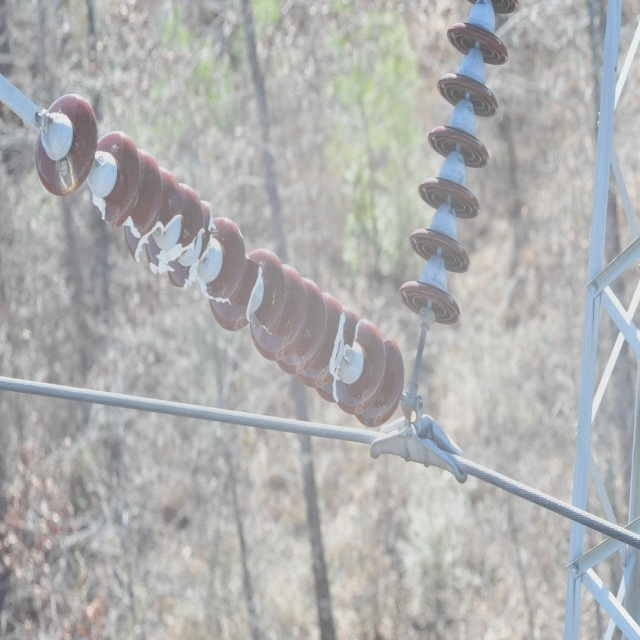broken: (134, 195, 214, 289), (324, 305, 366, 401), (91, 188, 142, 244), (242, 259, 266, 323), (198, 272, 233, 314)
insulator: (38, 96, 404, 424), (400, 1, 515, 324)
